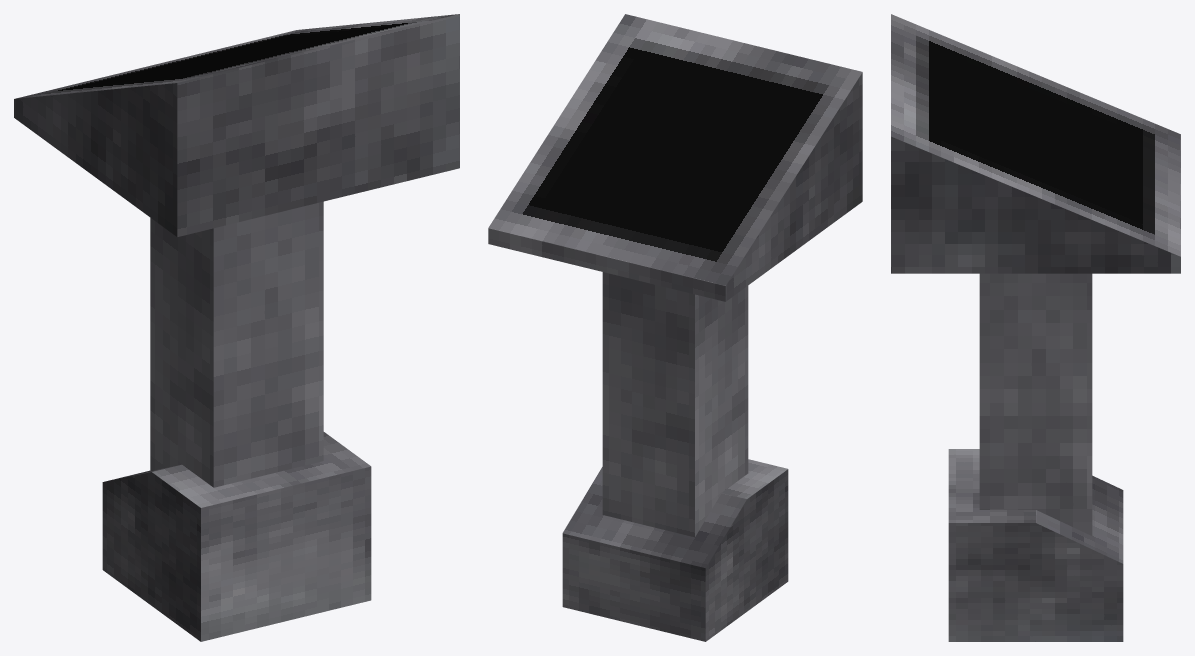
Rendered from info_panel.glb.
The picture shows the model from 3 angles, left to right: view 1: azimuth 30°, elevation 25°; view 2: azimuth 150°, elevation 25°; view 3: azimuth 270°, elevation 25°; orthographic projection. The views are drawn at different scales.
Visible parts, largest first — view 1: Cube.002; view 2: Cube.002; view 3: Cube.002.
Boxes of the visible parts, box(x1,y1,x2,y2) form: Cube.002: box(14, 14, 459, 641); Cube.002: box(488, 14, 862, 641); Cube.002: box(891, 14, 1180, 641).
Size of the model in its own units: 0.6984 by 1.41 by 0.6984.
Materials: 2 (2 with a texture image).
